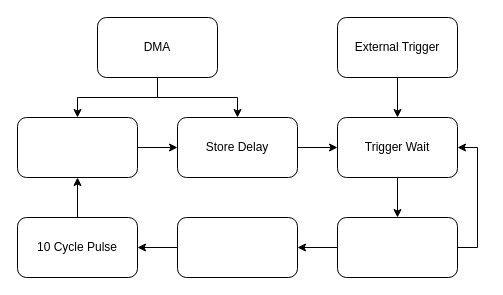
The diagram is 503 pixels wide and 295 high, and some of its shapes have lost their labels. The shapes that lost their labels are listed below. From the top down, each one's centre as x and y in pixels, then its label:
(x=77, y=147): Store Skips
(x=237, y=247): Delay Loop
(x=397, y=247): Trigger Skip and Decrement
